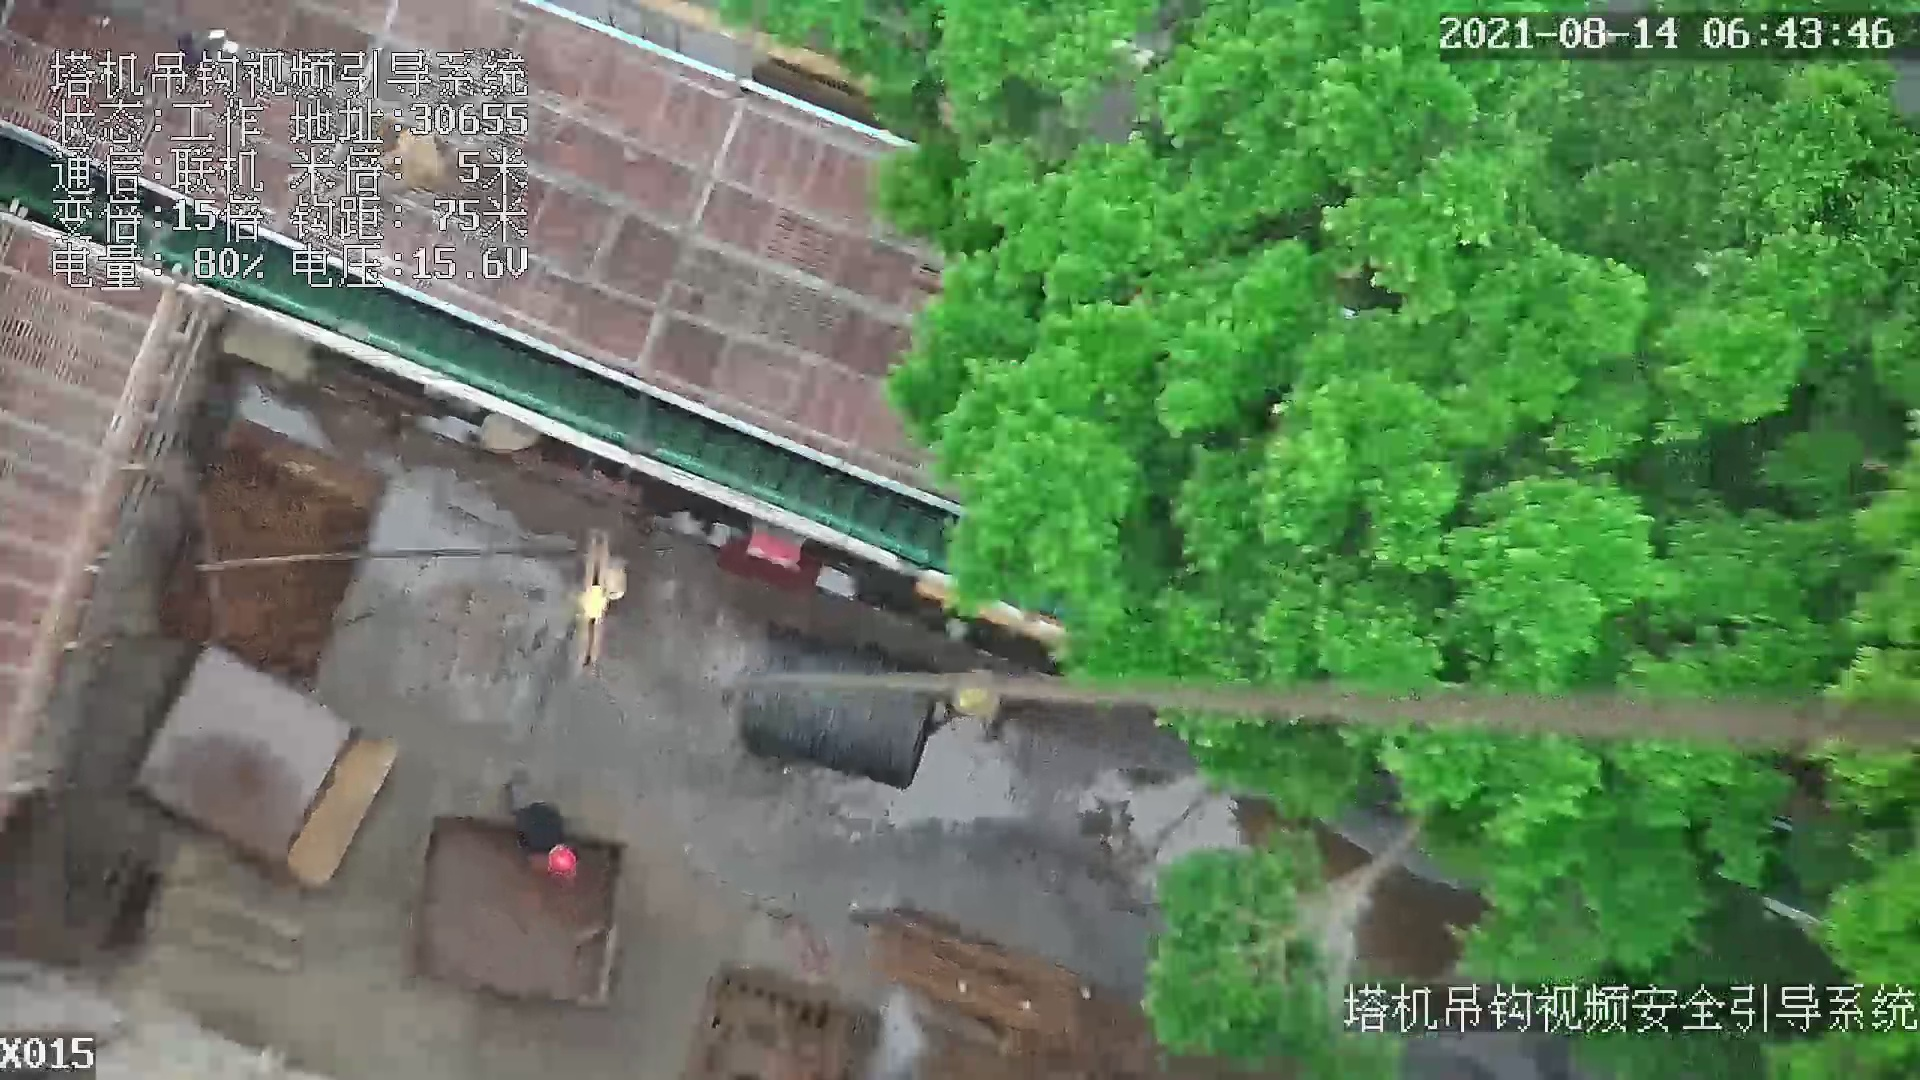helmet: (547, 841, 577, 874)
hook: (576, 528, 628, 683)
person: (512, 797, 592, 887), (958, 663, 1023, 739), (607, 554, 634, 604)
